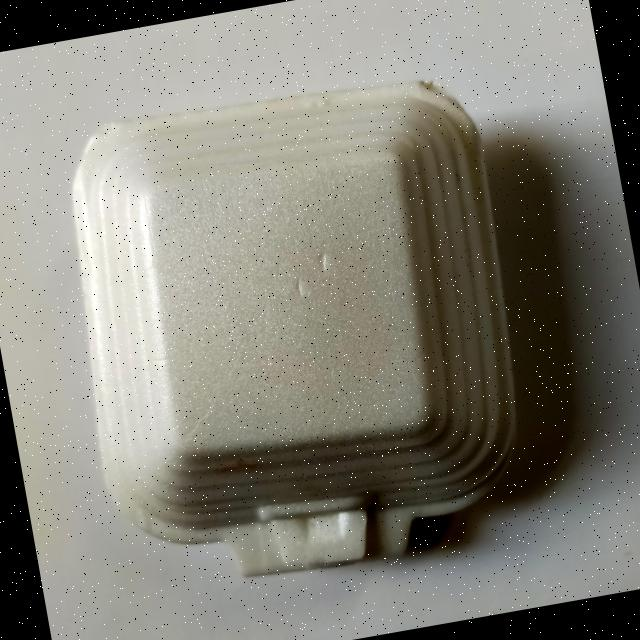styrofoam: (41, 56, 552, 605)
